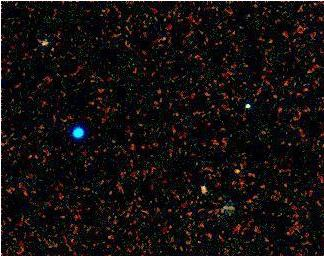star: (222, 155, 252, 185)
